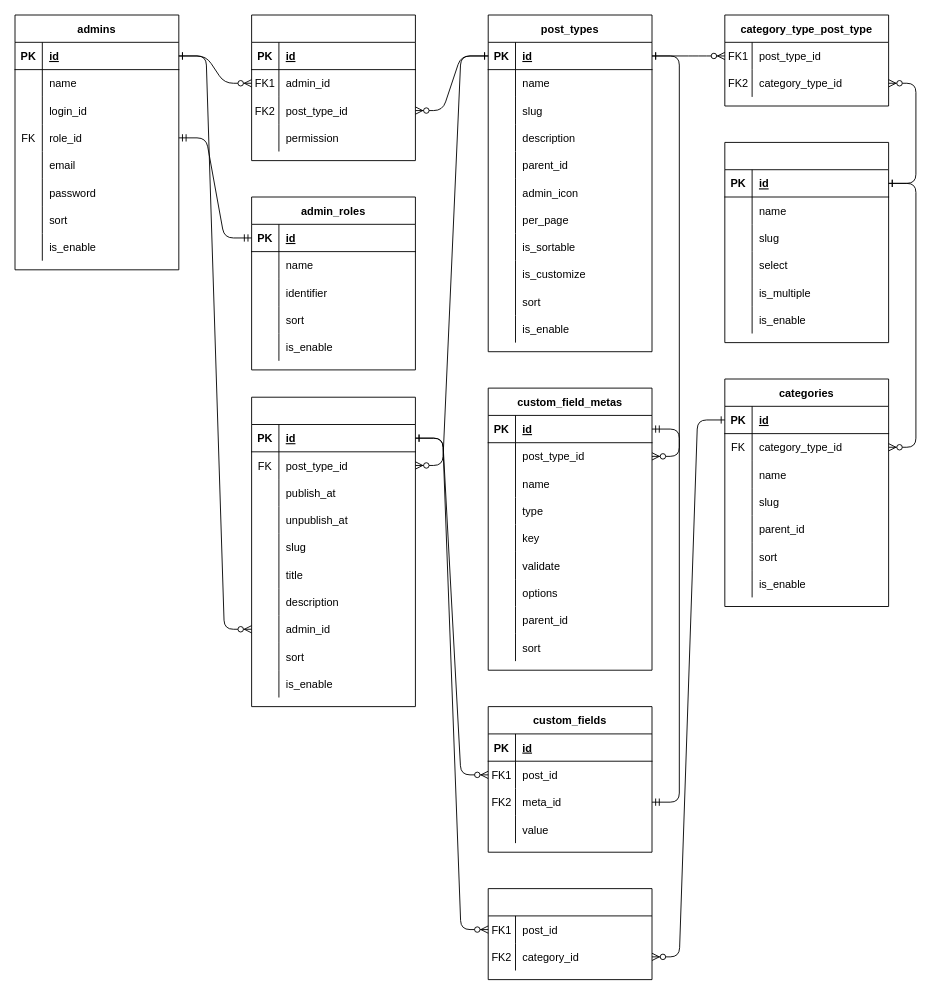
Some shapes in this 931 by 995 pixel diagram are drawn without their labels. Here are the shapes that lost their labels. From the top down, the box of each, then its label:
(251, 14, 415, 161): admin_permissions
(724, 142, 889, 343): category_types
(251, 396, 415, 707): posts
(487, 888, 652, 980): category_post
